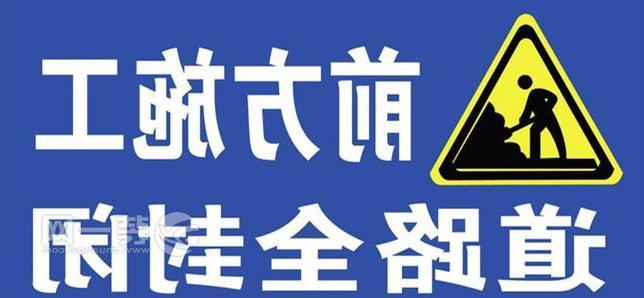sign: (15, 6, 638, 296)
